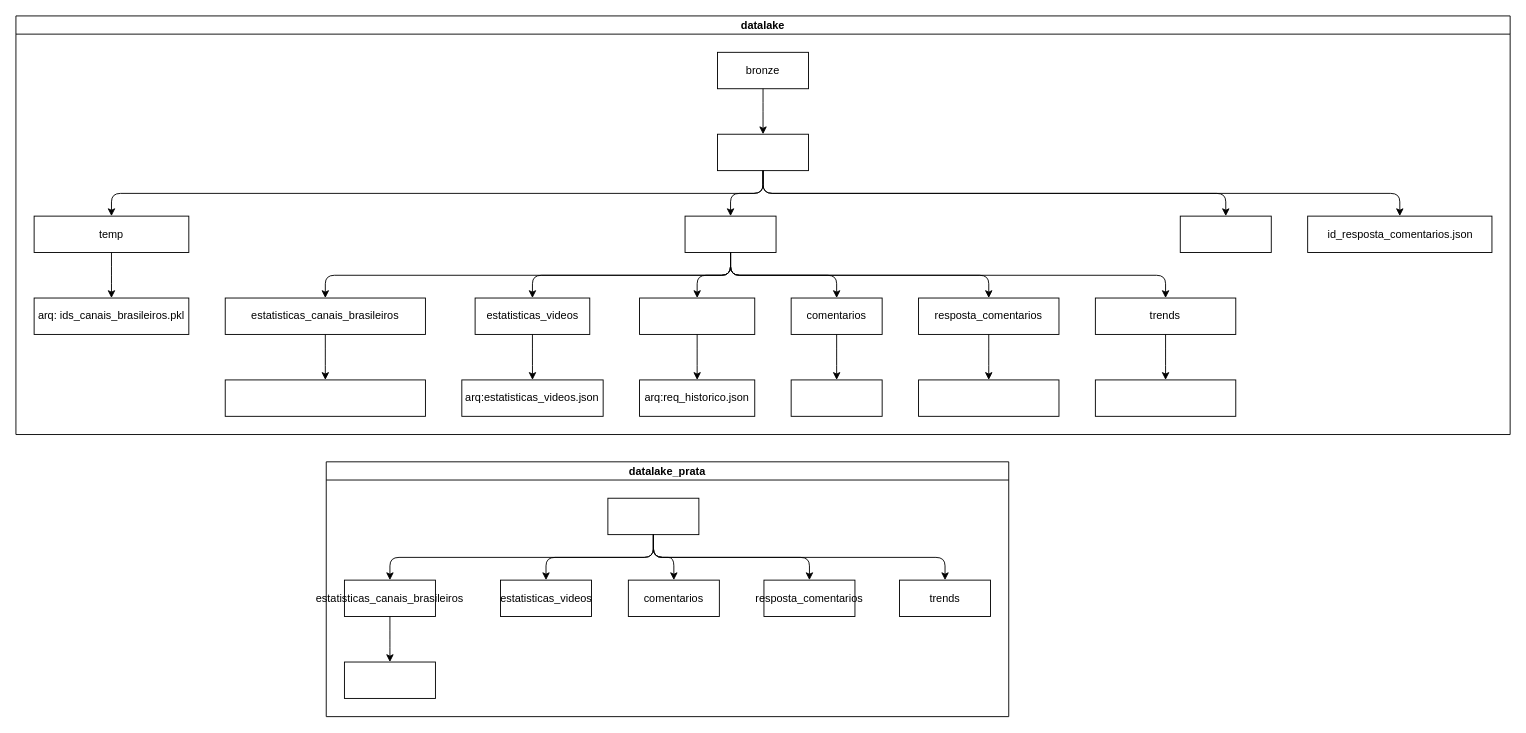
Some shapes in this 1526 by 733 pixel diagram are drawn without their labels. Each missing label, with the centre of its shape:
arq:estatisticas_canais_brasileiros.json: the point at 324,397
assunto: the point at 763,152
comentarios.json: the point at 836,397
extracao_data: the point at 730,234
historico_pesquisa: the point at 697,315
id_videos.pkl: the point at 1225,234
prata: the point at 653,516
resposta_comentarios.json: the point at 988,397
trends.json: the point at 1165,397
